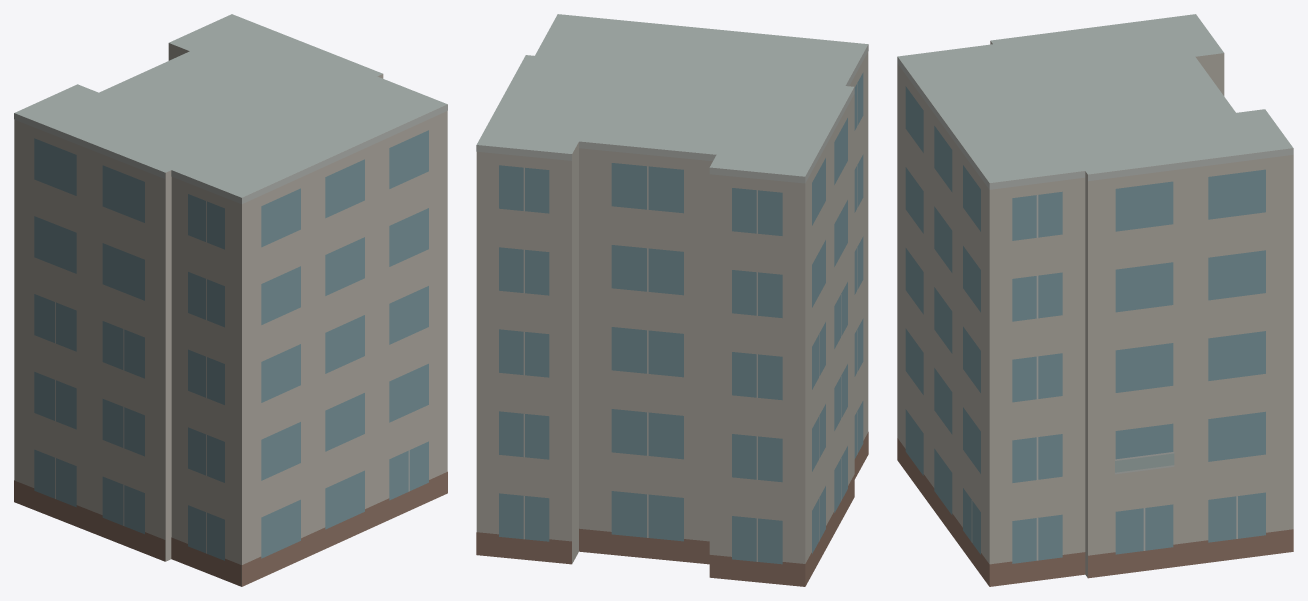
File: survey-upis-33016936.glb
3 renders of one model, left to right at view 1: azimuth 30°, elevation 25°; view 2: azimuth 150°, elevation 25°; view 3: azimuth 270°, elevation 25°, orthographic. The views are drawn at different scales.
Parts seen in each view (by area): view 1: survey-upis-33016936.tmp; view 2: survey-upis-33016936.tmp; view 3: survey-upis-33016936.tmp.
Part boxes in pixels (<box>): survey-upis-33016936.tmp: <box>14,14,447,586</box>; survey-upis-33016936.tmp: <box>476,14,868,586</box>; survey-upis-33016936.tmp: <box>897,14,1293,586</box>.
Bounding box in the file's own units: 13.27 × 14.75 × 13.13.
